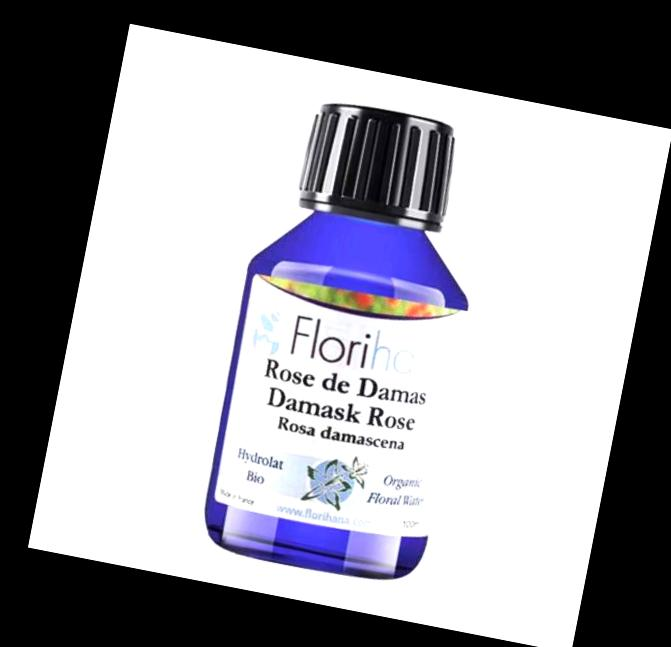cosmetic: (190, 86, 507, 587)
